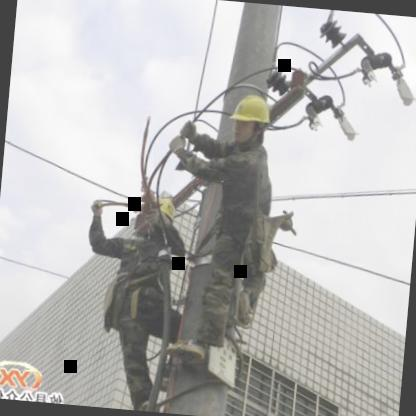helmet: (226, 88, 274, 151), (138, 193, 180, 238)
